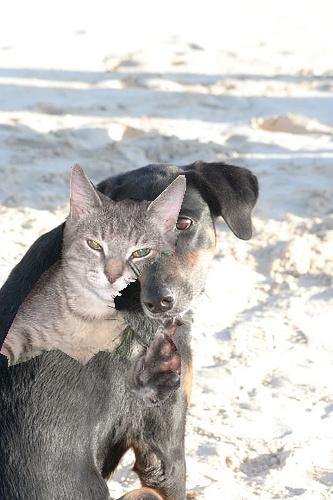tampered: (1, 163, 186, 407)
